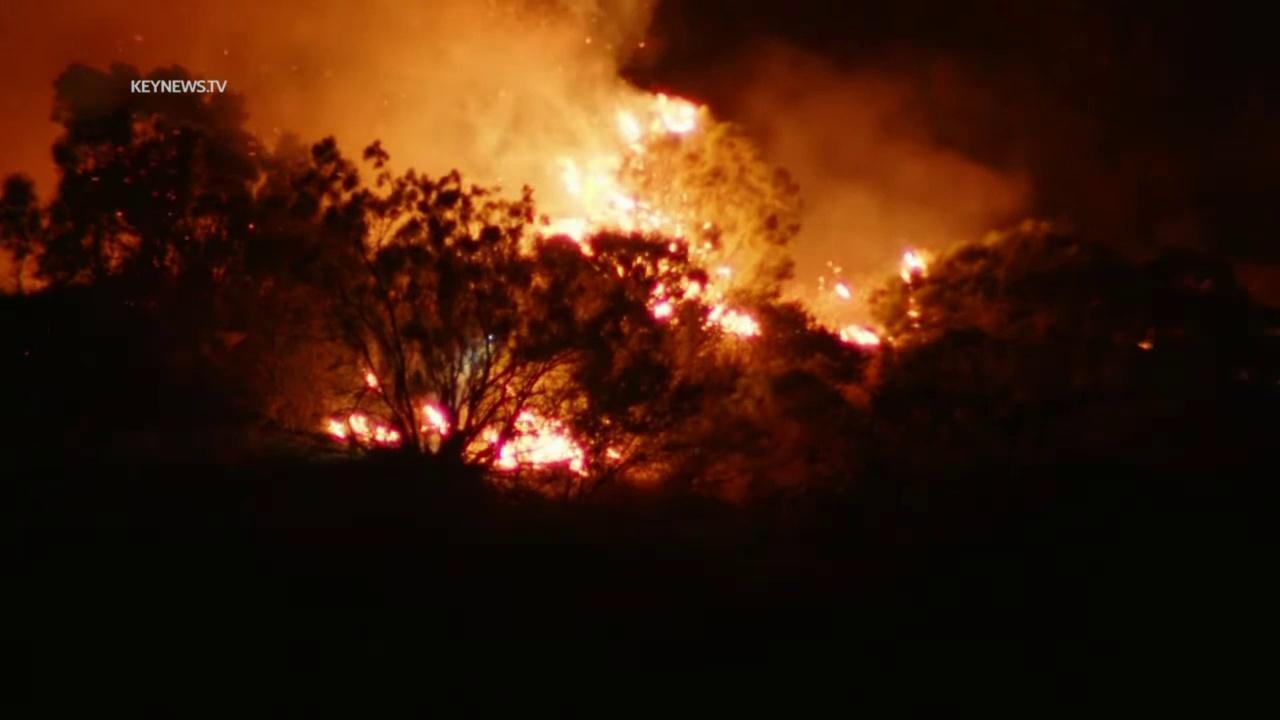fire: (547, 91, 765, 343), (484, 407, 590, 475), (325, 411, 404, 450), (899, 243, 930, 331), (417, 401, 452, 439), (838, 324, 884, 346), (835, 282, 853, 302), (603, 444, 624, 461), (364, 371, 381, 391), (1136, 340, 1153, 350)
smoke: (0, 0, 1043, 329)
